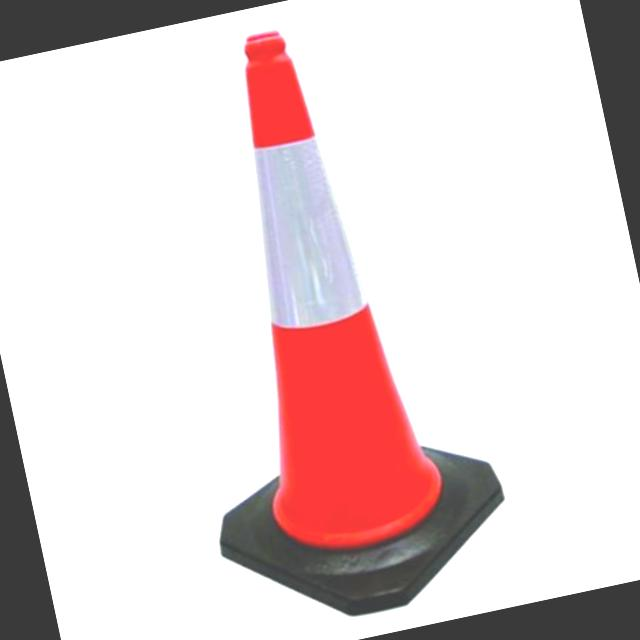cone: (123, 0, 515, 632)
